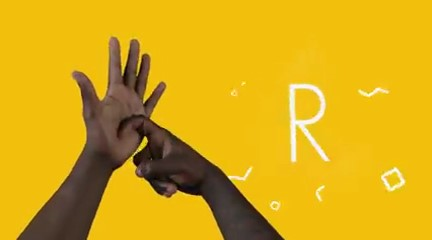R: (65, 27, 217, 205)
